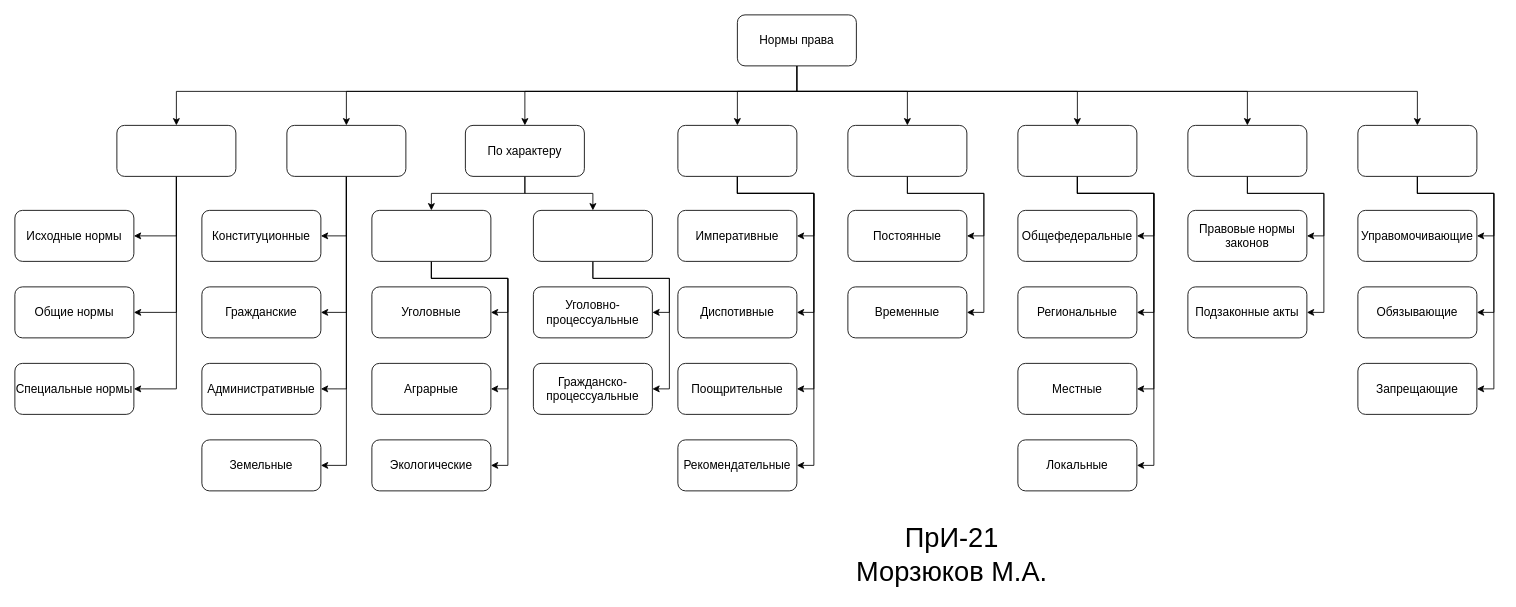
This 1516x607 diagram has some shape labels left out. Here are the shapes that lost their labels. From the top down, the centre of each, then its label:
At point (176, 150): "По содержаиню".
At point (346, 150): "По предмету правового регулирования".
At point (737, 150): "По методам правового регулирования".
At point (907, 150): "По времени действия".
At point (1077, 150): "По сфере действия".
At point (1247, 150): "По юридической силе".
At point (1417, 150): "По способу правового регулирования".
At point (431, 235): "Материальные".
At point (592, 235): "Процессуальные".
